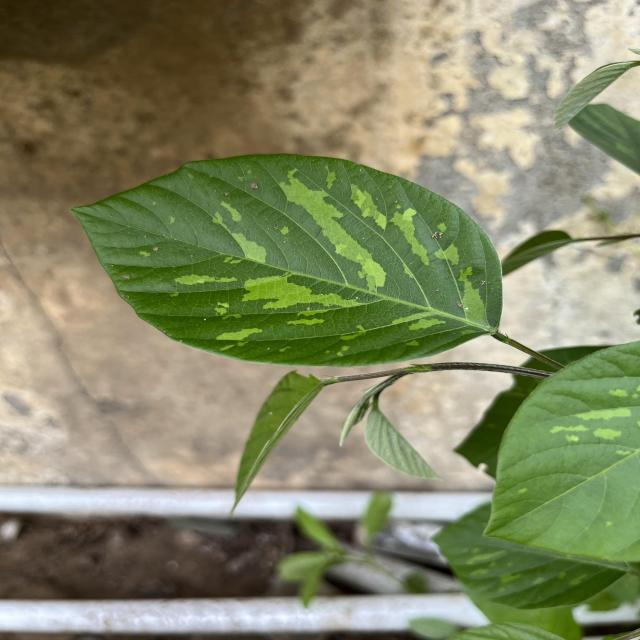Desmodium gangeticum: (61, 147, 506, 370)
